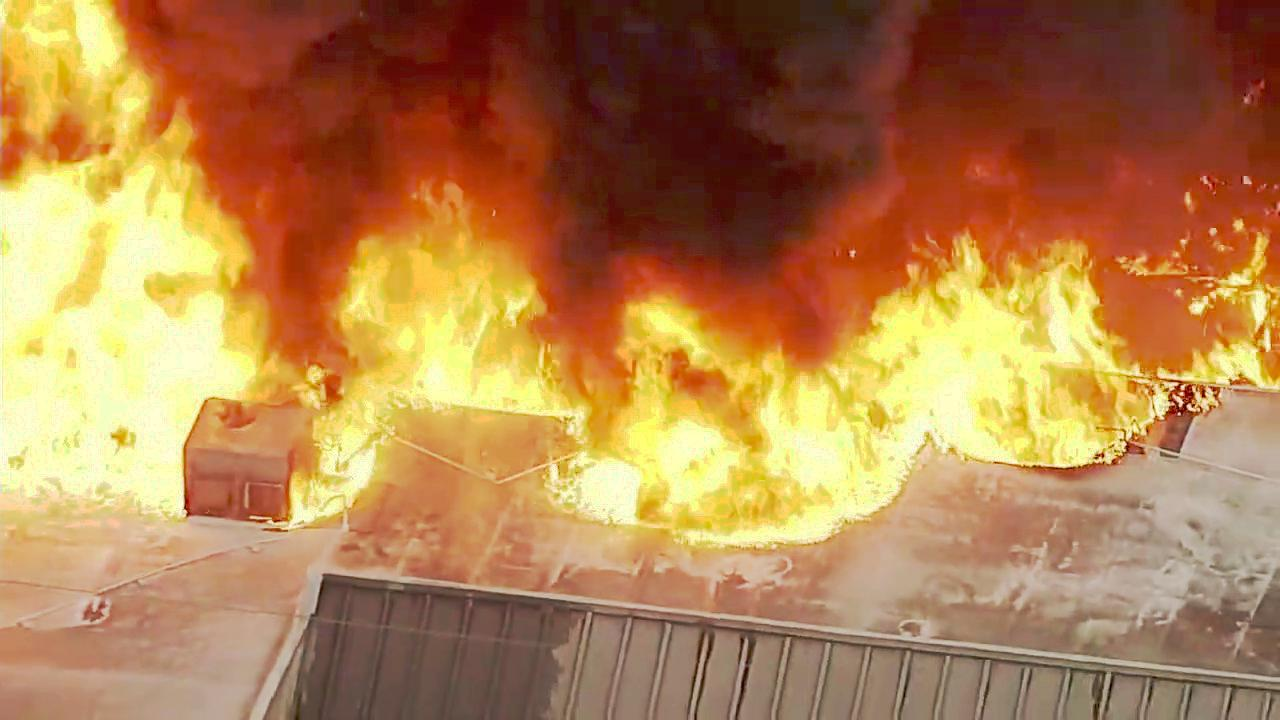fire: (0, 0, 200, 503), (855, 234, 1132, 474), (350, 194, 577, 414)
